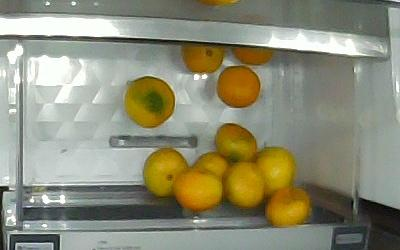tangerine: (124, 76, 175, 129), (144, 148, 190, 199), (172, 169, 224, 212), (264, 186, 311, 227), (218, 66, 262, 107), (225, 162, 265, 207), (255, 146, 297, 188), (216, 124, 258, 163), (179, 43, 225, 72), (231, 46, 277, 67), (190, 152, 228, 175)
